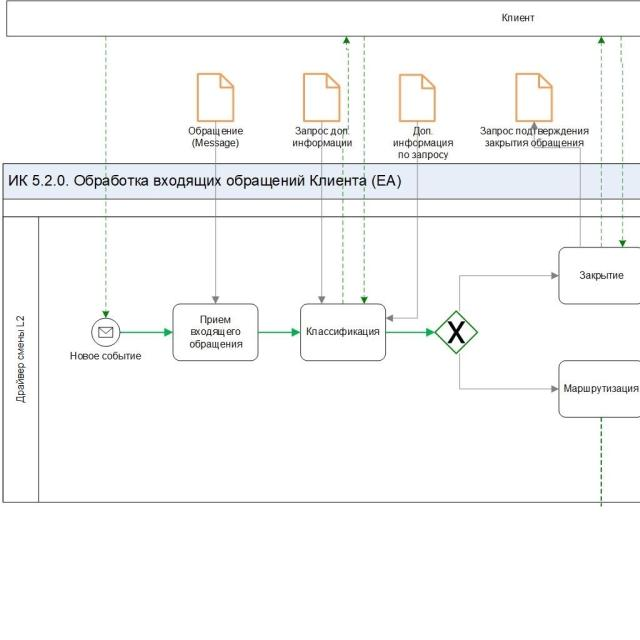arrow: (458, 270, 558, 312), (458, 352, 558, 394), (120, 329, 172, 336), (386, 329, 434, 336), (259, 329, 299, 336)
circle: (92, 318, 120, 346)
rectangle: (172, 302, 259, 361), (300, 303, 386, 361)
